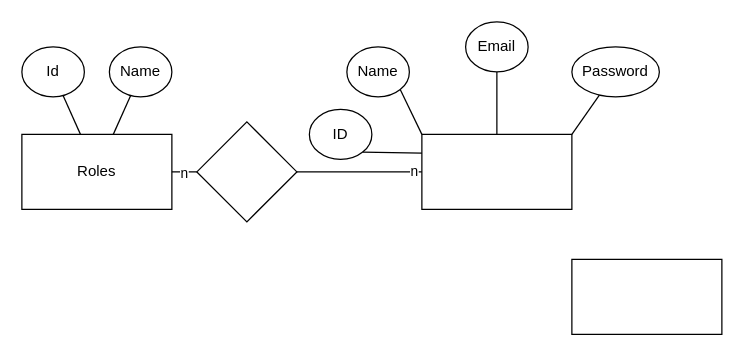
This 744x356 diagram has some shape labels left out. Each missing label, with the centre of its shape:
Character: [646,296]
contains: [246,171]
User: [496,171]
